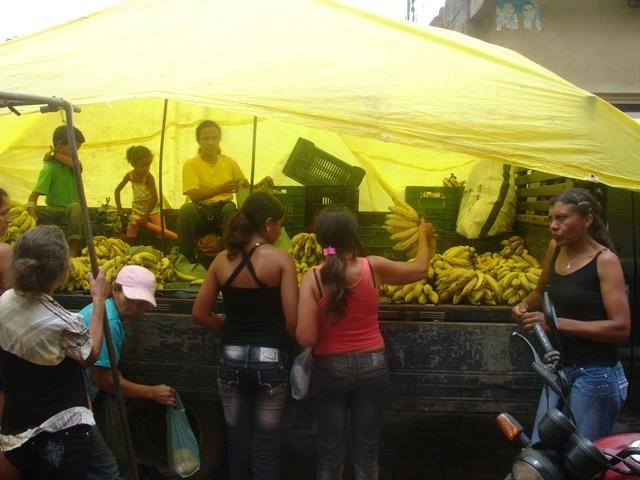banana: (388, 206, 421, 222), (389, 226, 418, 242), (397, 232, 418, 252), (132, 248, 161, 262), (460, 276, 478, 297), (502, 272, 520, 291), (456, 269, 476, 286), (385, 220, 419, 230), (172, 268, 198, 281), (443, 270, 468, 283), (135, 252, 158, 266), (511, 256, 534, 268), (502, 286, 520, 300), (518, 273, 532, 291), (474, 270, 486, 290), (14, 211, 28, 227), (19, 215, 32, 232), (143, 260, 161, 272), (298, 234, 310, 252), (401, 284, 416, 298), (112, 264, 125, 280), (166, 266, 178, 283), (24, 218, 36, 234), (428, 290, 440, 306), (447, 248, 468, 257), (114, 255, 128, 268), (507, 294, 522, 306), (382, 285, 400, 295), (526, 273, 540, 285), (466, 294, 481, 305), (474, 286, 484, 302), (71, 259, 80, 276), (524, 268, 542, 276), (314, 241, 322, 259), (512, 262, 530, 270), (404, 290, 416, 302), (308, 251, 318, 265), (418, 290, 428, 304), (118, 239, 127, 254), (474, 254, 486, 265), (75, 276, 85, 289), (308, 233, 316, 249), (481, 297, 496, 305), (510, 278, 522, 288), (512, 245, 524, 255), (432, 260, 444, 270), (9, 200, 23, 208), (510, 241, 522, 250), (305, 239, 311, 257), (423, 284, 432, 295), (95, 246, 104, 257), (190, 279, 204, 286), (108, 246, 115, 260), (484, 288, 492, 300), (453, 260, 466, 267), (294, 243, 300, 258), (490, 270, 498, 281), (449, 177, 458, 186), (504, 248, 514, 256), (160, 264, 168, 274), (493, 258, 502, 266), (296, 273, 304, 282), (292, 255, 300, 264), (300, 263, 308, 272), (500, 246, 510, 253), (78, 262, 82, 279), (130, 254, 138, 262), (10, 213, 20, 219), (104, 241, 110, 250), (511, 268, 524, 272), (476, 256, 482, 264), (82, 260, 91, 264), (168, 262, 173, 269)
